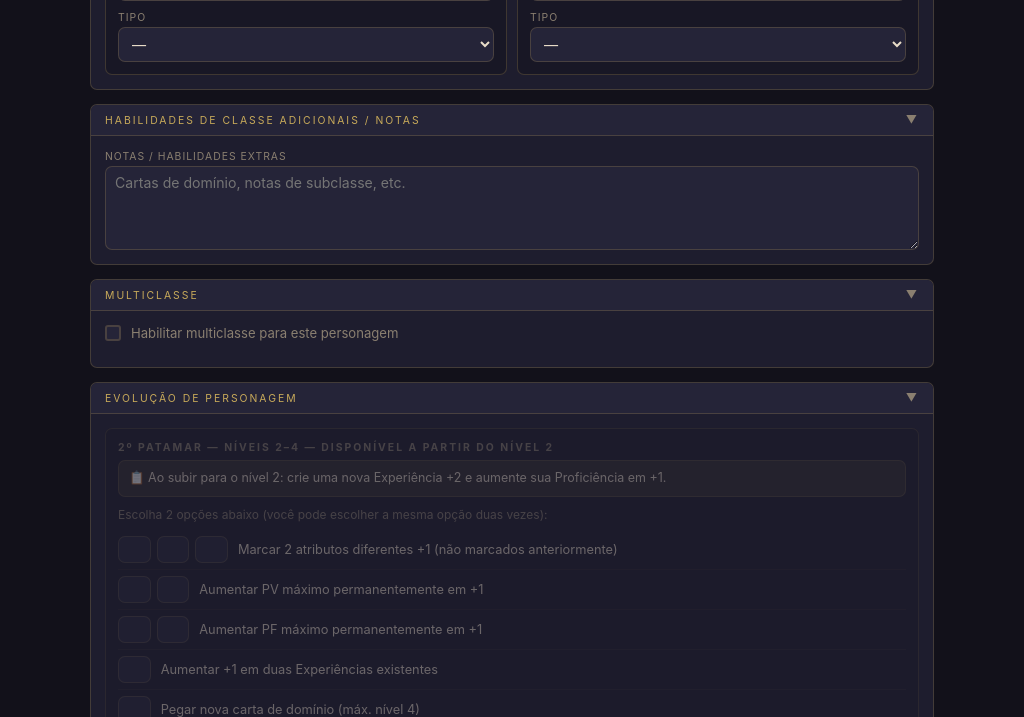
Test case: FormScreen — multiclasse › habilitar multiclasse exibe grade de classes
(page scrolled)
Click the checkbox labelled "Habilitar multiclasse para este personagem" at (113, 333), box [105,325,121,341]
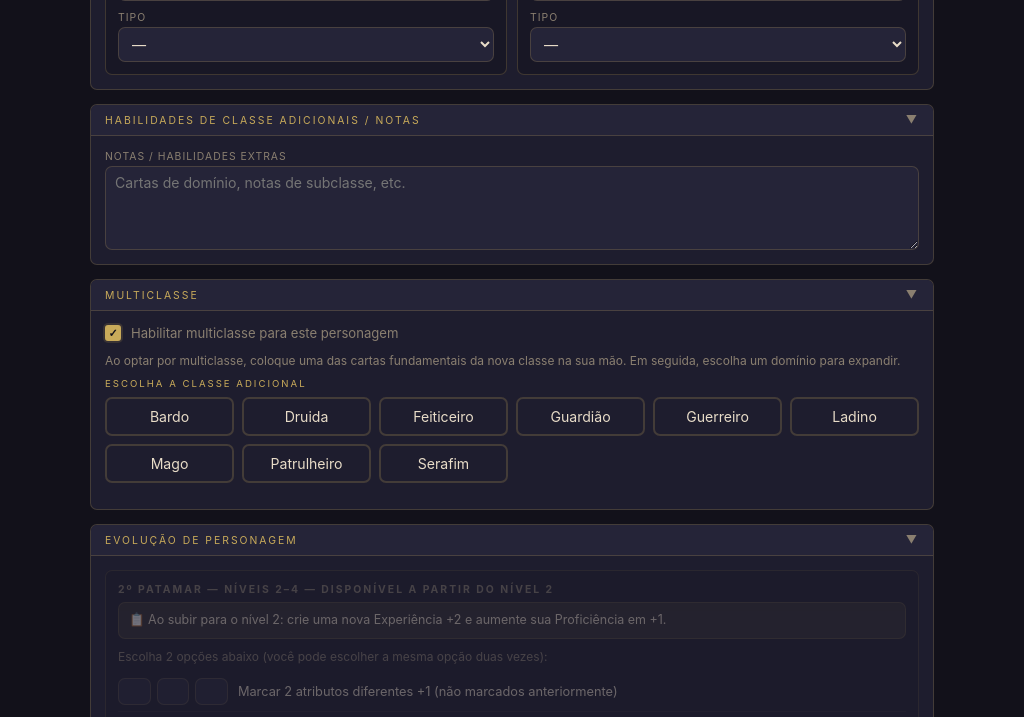
Now the text "Escolha a classe adicional" is shown, box [105,378,307,389]
